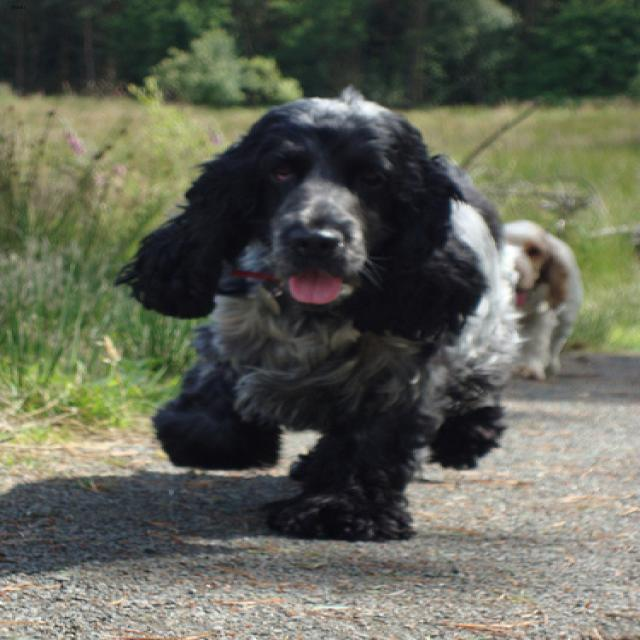dog-english_cocker_spaniel: (99, 78, 596, 558)
